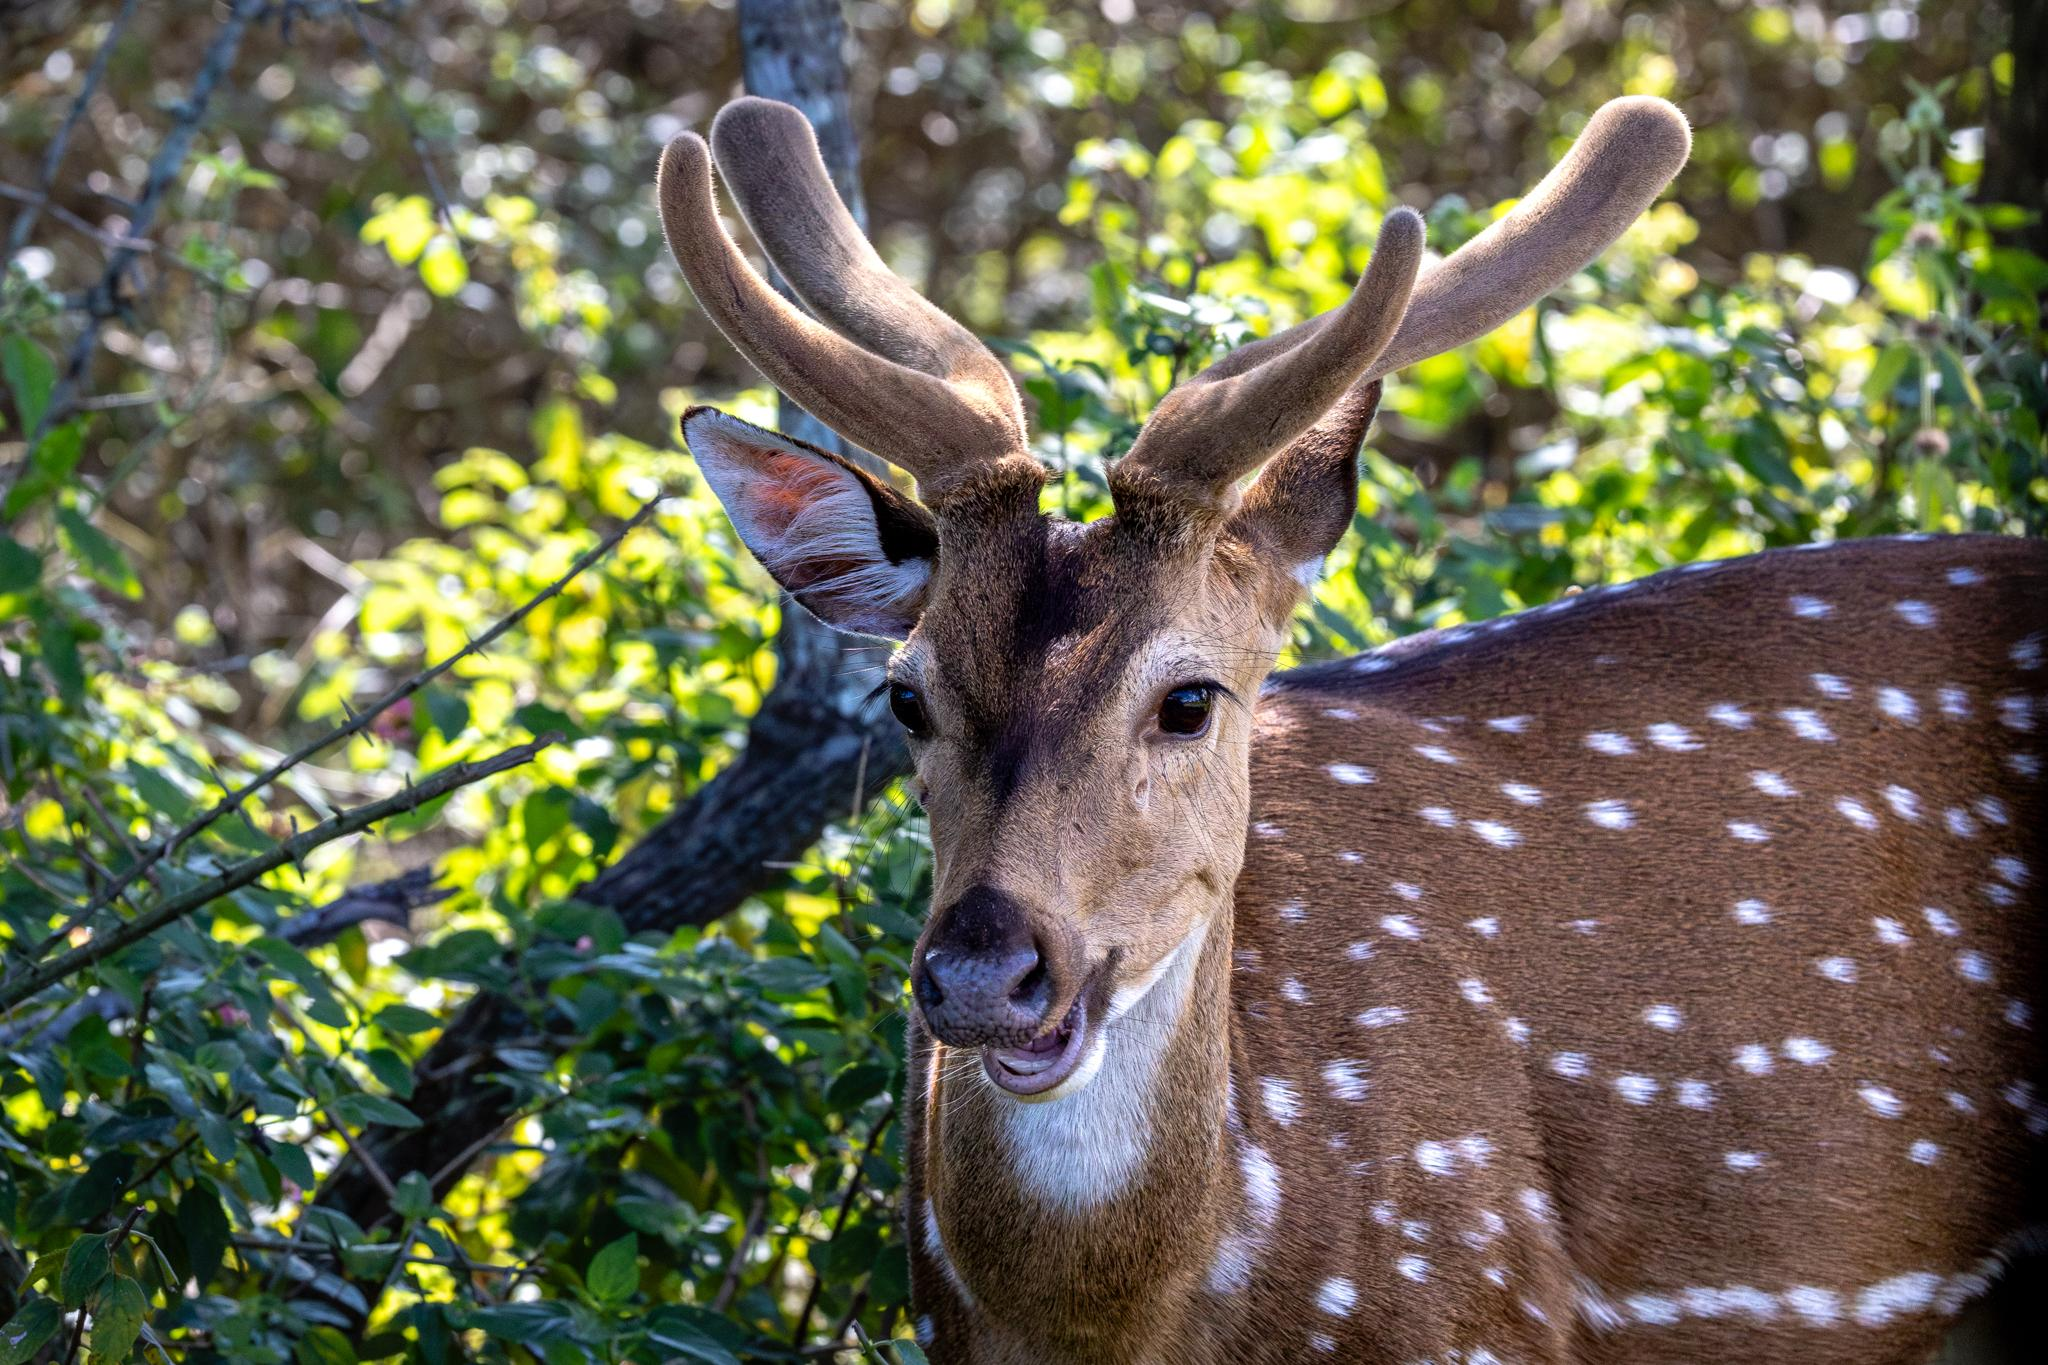Deer: (659, 96, 2046, 1360)
